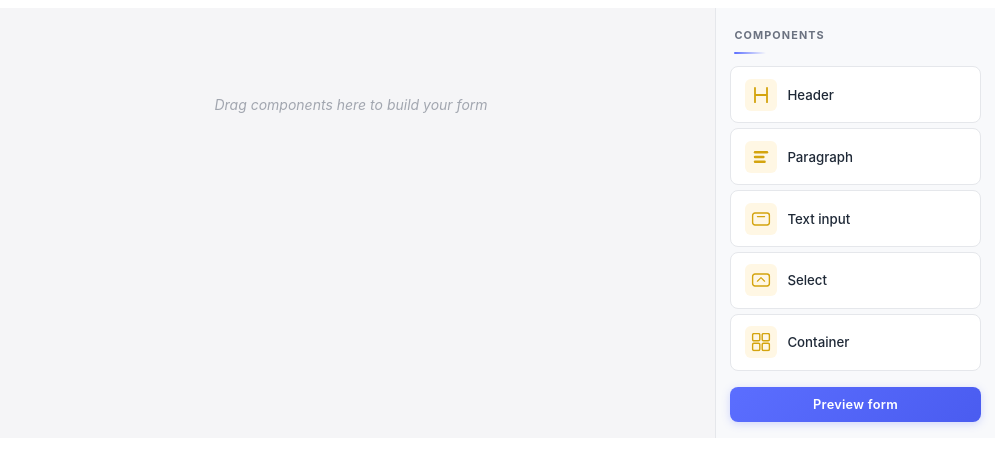
Scenario: FormBuilder › toggles preview mode
This screenshot has width=1003, height=455.
Click the button "Preview form".
click(856, 404)  # box [730,387,981,422]
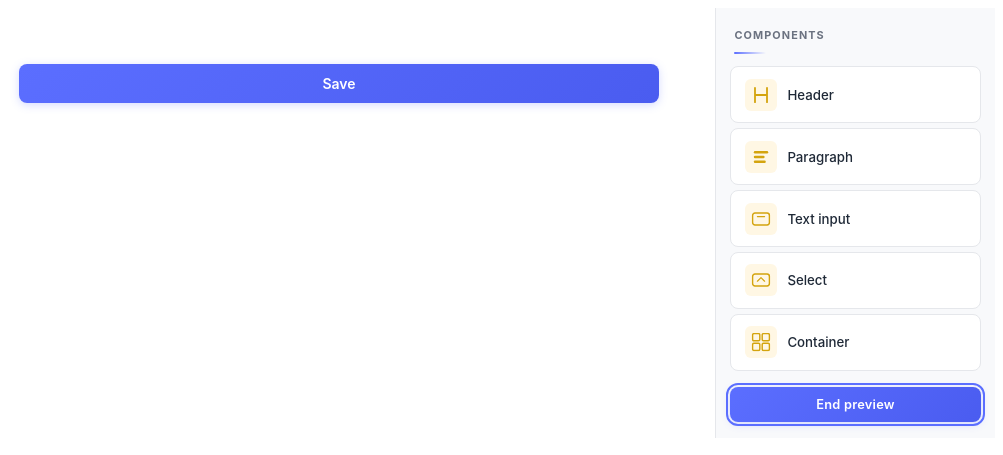
Now the button "End preview" is shown, box [730,387,981,422]
